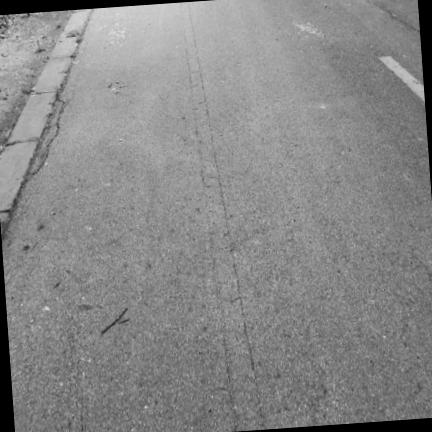Road: (2, 0, 431, 431)
